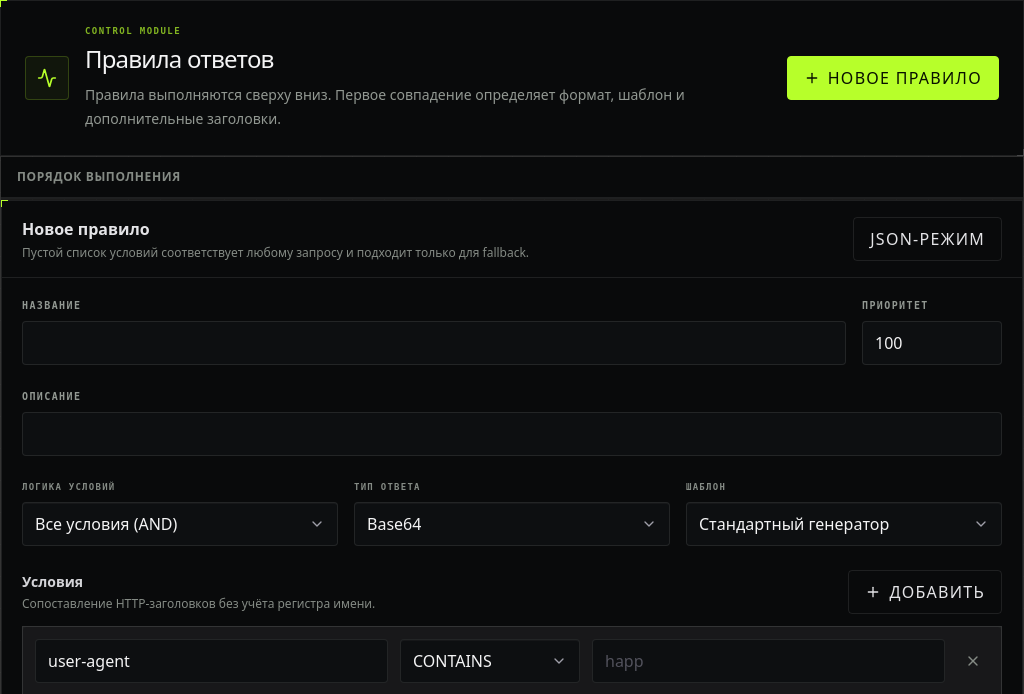
ResponseRulesPage › allows conditions and safe response headers to be assembled visually
Expected: the text "Порядок выполнения" is shown, [1,156,1023,198]
Click the 1st button "Добавить" at coordinates (925, 592), box [848,570,1002,614]
(page scrolled)
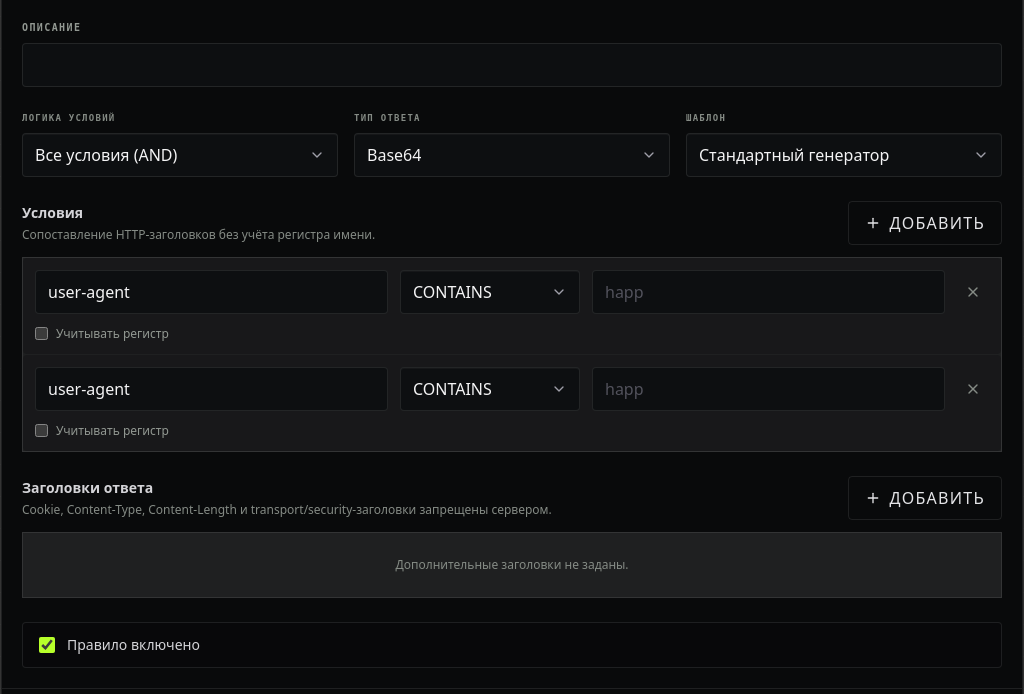
Expected: the number of fields named "Заголовок" is 2, [35,270,388,314]; [35,366,388,410]
Click the button "Добавить" in the row of "Заголовки ответа" at coordinates (925, 498), box [848,476,1002,520]
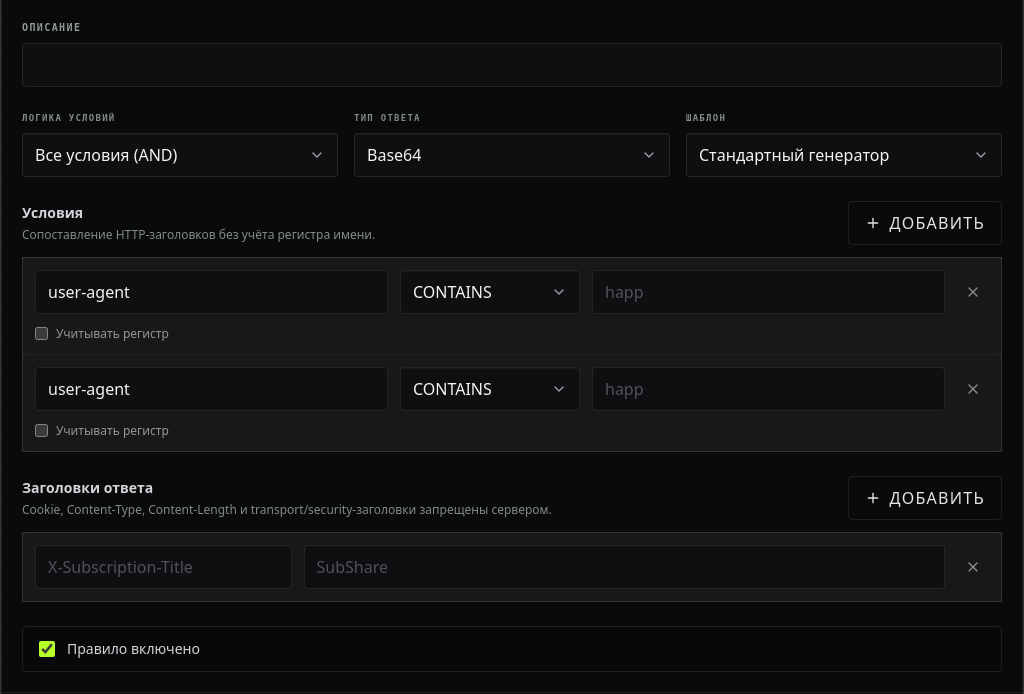
Expected: the field named "Имя заголовка" is shown, [35,544,292,588]
Expected: the field named "Значение заголовка" is shown, [304,544,945,588]
